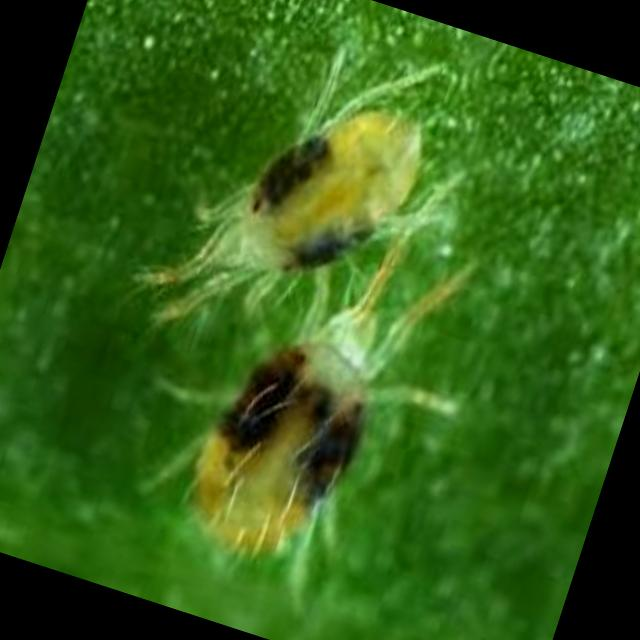spider mite: (133, 0, 495, 395), (143, 232, 484, 630)
